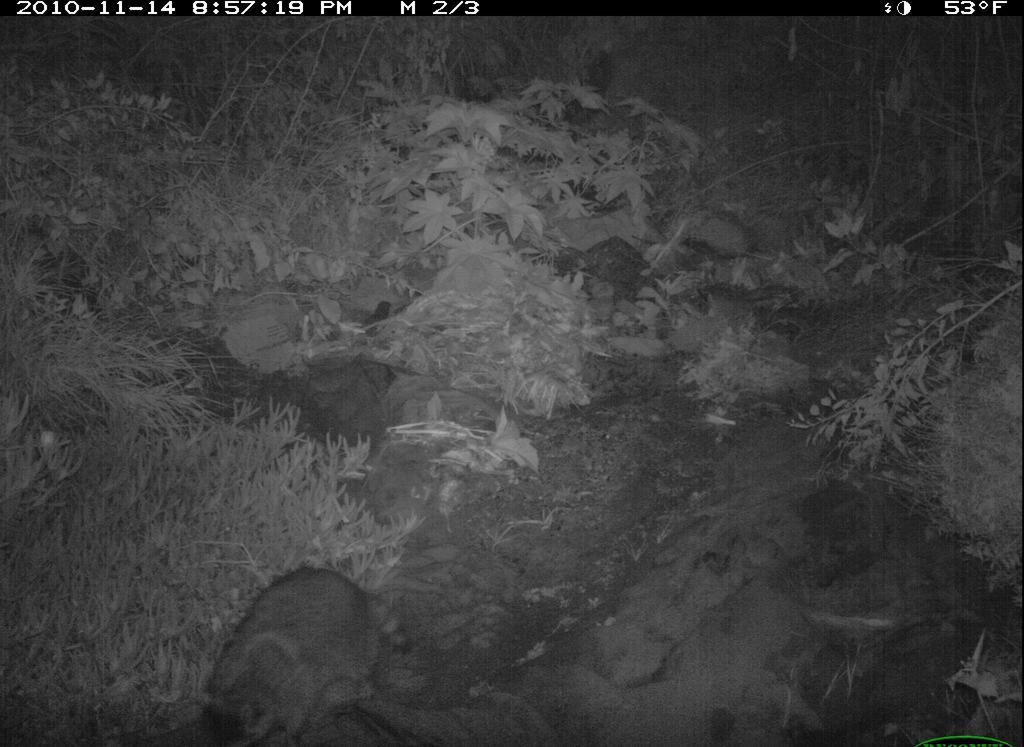raccoon: (163, 560, 422, 738)
